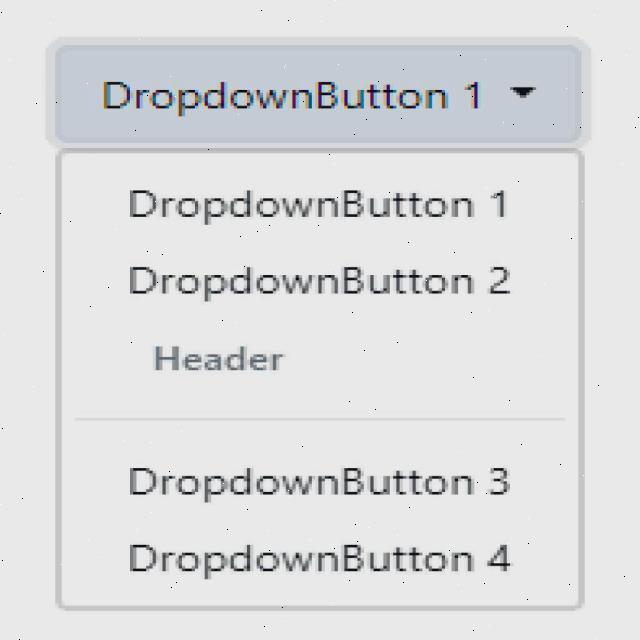dropdownMenu: (53, 44, 582, 613)
menuItem: (125, 175, 513, 238), (122, 258, 516, 307), (123, 458, 520, 502), (125, 536, 518, 579), (147, 341, 292, 379)
